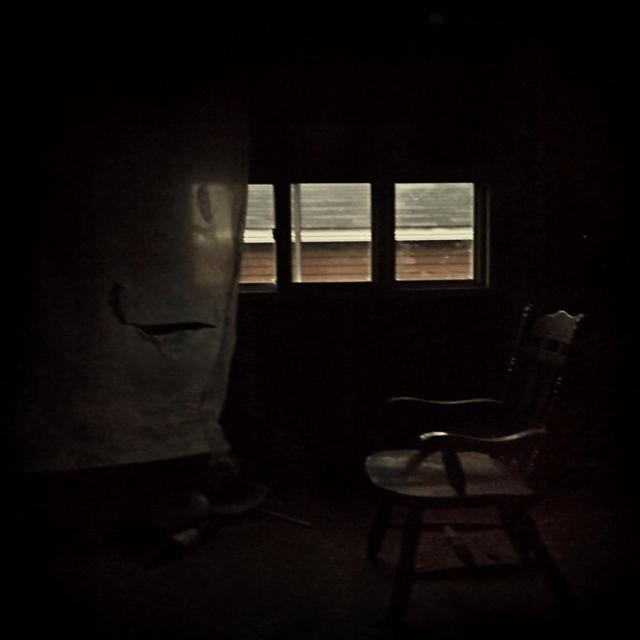chair: (347, 294, 611, 640)
